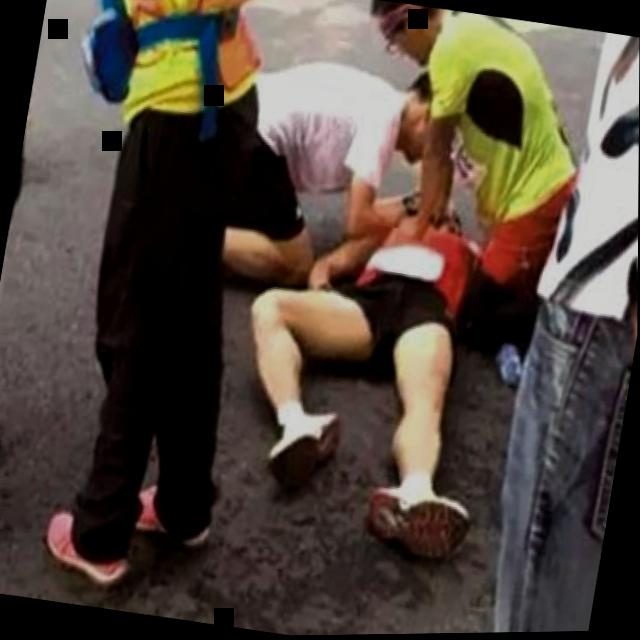Fall-Detected: (215, 129, 539, 581)
